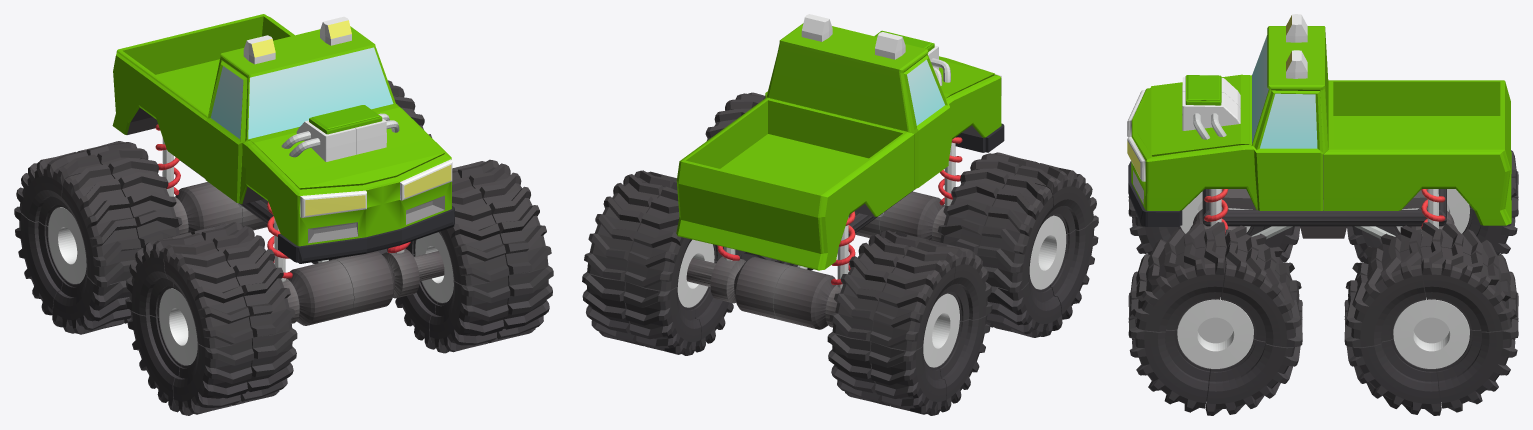
Rendered from Level_P_5.fbx.
3 views of the same model, side by side, from view 1: azimuth 30°, elevation 25°; view 2: azimuth 150°, elevation 25°; view 3: azimuth 270°, elevation 25° (orthographic). The views are drawn at different scales.
Parts seen in each view (by area): view 1: Cube.1, Cube.240, Cube.236, Cube.235, Cube.194, Cube.184, Cube.239, Cube.169, Cube.183, Cube.168, Cube.170, Cube.181 (+32 smaller); view 2: Cube.1, Cube.241, Cube.240, Cube.186, Cube.190, Cube.239, Cube.180, Cube.175, Cube.189, Cube.192, Cube.179, Cube.187 (+27 smaller); view 3: Cube.1, Cube.241, Cube.239, Cube.234, Cube.175, Cube.168, Cube.176, Cube.167, Cube.236, Cube.166, Cube.173, Cube.198 (+26 smaller).
Part boxes in pixels (bbox=[...]): Cube.1: bbox=[112, 32, 214, 178]; Cube.240: bbox=[205, 38, 319, 144]; Cube.236: bbox=[249, 104, 444, 189]; Cube.235: bbox=[239, 140, 382, 246]; Cube.194: bbox=[62, 164, 141, 287]; Cube.184: bbox=[163, 239, 253, 348]; Cube.239: bbox=[283, 26, 397, 114]; Cube.169: bbox=[439, 176, 509, 285]; Cube.183: bbox=[211, 226, 295, 337]; Cube.168: bbox=[467, 163, 551, 274]; Cube.170: bbox=[429, 276, 510, 353]; Cube.181: bbox=[173, 338, 253, 415]; Cube.1: bbox=[748, 115, 914, 270]; Cube.241: bbox=[676, 97, 837, 252]; Cube.240: bbox=[838, 35, 949, 133]; Cube.186: bbox=[977, 174, 1052, 292]; Cube.190: bbox=[870, 246, 955, 350]; Cube.239: bbox=[765, 23, 867, 114]; Cube.180: bbox=[624, 186, 691, 291]; Cube.175: bbox=[584, 174, 664, 280]; Cube.189: bbox=[829, 234, 910, 340]; Cube.192: bbox=[869, 341, 946, 415]; Cube.179: bbox=[623, 282, 701, 355]; Cube.187: bbox=[937, 168, 1008, 255]; Cube.1: bbox=[1323, 80, 1511, 186]; Cube.241: bbox=[1323, 115, 1511, 225]; Cube.239: bbox=[1250, 55, 1328, 153]; Cube.234: bbox=[1131, 126, 1257, 210]; Cube.175: bbox=[1420, 241, 1517, 331]; Cube.168: bbox=[1130, 241, 1226, 331]; Cube.176: bbox=[1344, 242, 1426, 347]; Cube.167: bbox=[1221, 242, 1302, 347]; Cube.236: bbox=[1136, 74, 1249, 156]; Cube.166: bbox=[1205, 335, 1300, 415]; Cube.173: bbox=[1346, 335, 1441, 415]; Cube.198: bbox=[1393, 297, 1469, 368].
Bounding box in the file's own units: 4.03 × 3.45 × 4.08.
